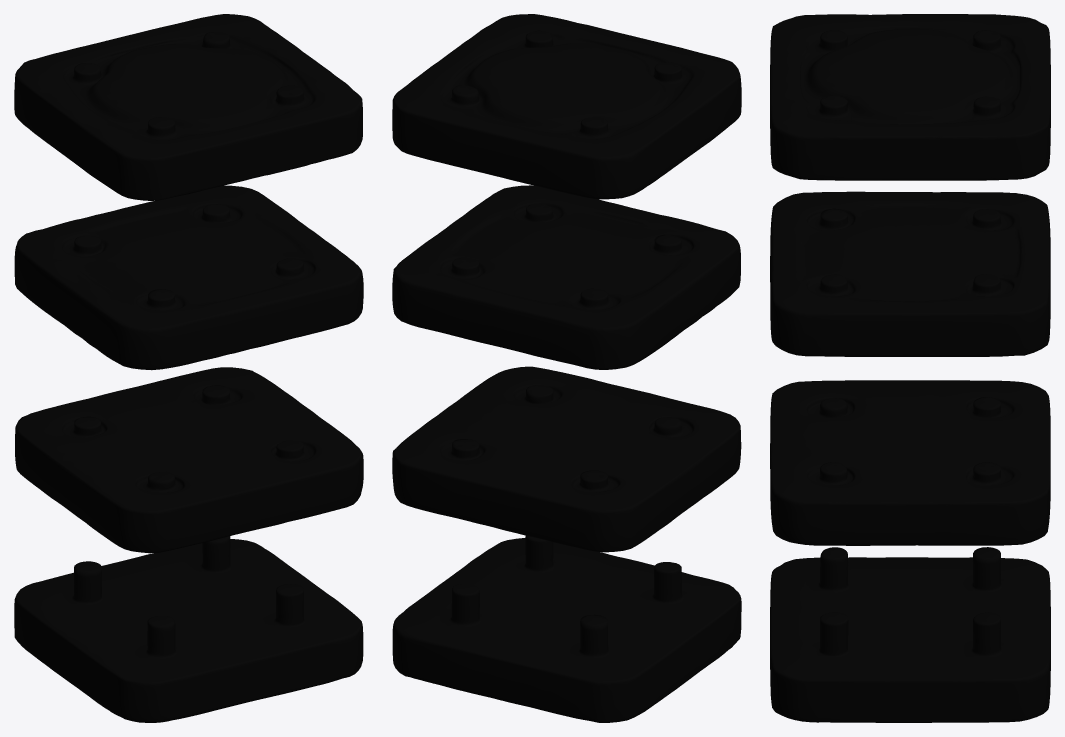
The model's file is base_basic_pbr.glb.
The picture shows the model from 3 angles, left to right: view 1: azimuth 30°, elevation 25°; view 2: azimuth 150°, elevation 25°; view 3: azimuth 270°, elevation 25°; orthographic projection. The views are drawn at different scales.
Parts seen in each view (by area): view 1: model; view 2: model; view 3: model.
Part boxes in pixels (bbox=[...]): model: bbox=[14, 14, 363, 722]; model: bbox=[392, 14, 741, 722]; model: bbox=[770, 14, 1050, 722].
Size of the model in its own units: 0.8375 by 1.9 by 0.8052.
Materials: 1 (1 with a texture image).
